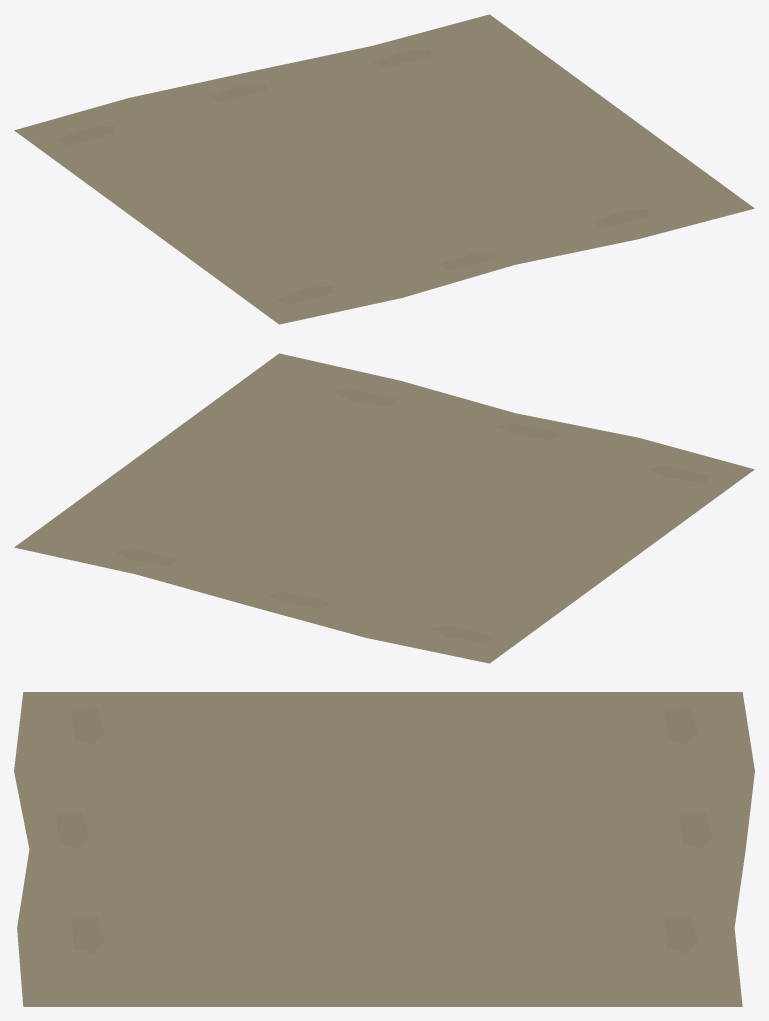
Rendered from lane-ground.glb.
The picture shows the model from 3 angles, top to bottom: view 1: azimuth 30°, elevation 25°; view 2: azimuth 150°, elevation 25°; view 3: azimuth 270°, elevation 25°; orthographic projection. The views are drawn at different scales.
Parts seen in each view (by area): view 1: stone-path, worn-edge-0-1, worn-edge-1--1, worn-edge-1-1, worn-edge-2--1, worn-edge-2-1, worn-edge-0--1; view 2: stone-path, worn-edge-2-1, worn-edge-0-1, worn-edge-1-1, worn-edge-1--1, worn-edge-2--1, worn-edge-0--1; view 3: stone-path, worn-edge-1--1, worn-edge-0--1, worn-edge-1-1, worn-edge-0-1, worn-edge-2--1, worn-edge-2-1.
Boxes of the visible parts, left/top/right/bottom form: stone-path: left=14, top=14, right=754, bottom=324; worn-edge-0-1: left=57, top=126, right=114, bottom=145; worn-edge-1--1: left=438, top=251, right=496, bottom=270; worn-edge-1-1: left=208, top=83, right=266, bottom=102; worn-edge-2--1: left=591, top=209, right=648, bottom=228; worn-edge-2-1: left=372, top=49, right=429, bottom=68; worn-edge-0--1: left=275, top=286, right=332, bottom=305; stone-path: left=14, top=353, right=754, bottom=663; worn-edge-2-1: left=115, top=548, right=177, bottom=566; worn-edge-0-1: left=430, top=625, right=493, bottom=643; worn-edge-1-1: left=267, top=591, right=329, bottom=609; worn-edge-1--1: left=497, top=423, right=559, bottom=440; worn-edge-2--1: left=334, top=388, right=396, bottom=406; worn-edge-0--1: left=649, top=465, right=711, bottom=483; stone-path: left=14, top=692, right=754, bottom=1006; worn-edge-1--1: left=56, top=811, right=89, bottom=849; worn-edge-0--1: left=71, top=707, right=104, bottom=744; worn-edge-1-1: left=679, top=811, right=712, bottom=849; worn-edge-0-1: left=664, top=707, right=697, bottom=744; worn-edge-2--1: left=71, top=916, right=104, bottom=953; worn-edge-2-1: left=664, top=916, right=697, bottom=953.
Size of the model in its own units: 12.06 by 0.002 by 12.
